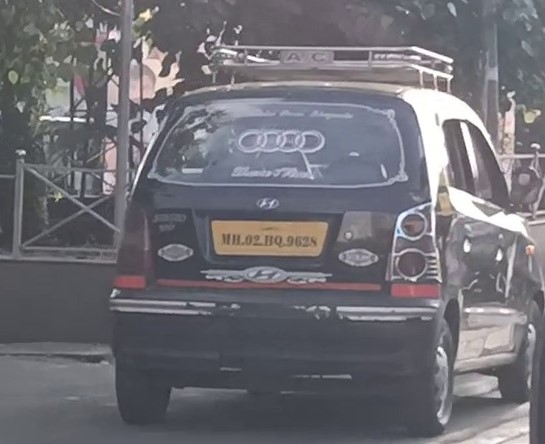MH02BQ9628: (210, 220, 328, 255)
